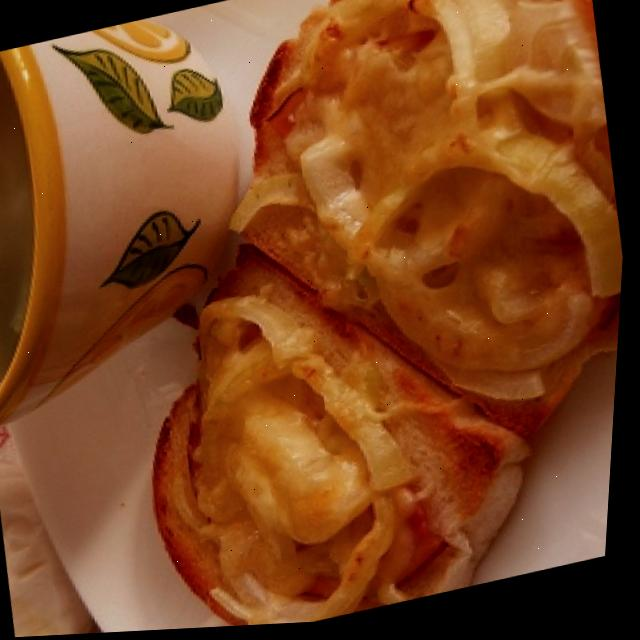面包点心: (170, 0, 640, 632)
